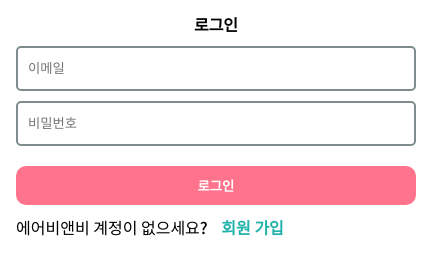
Test case: LoginPage › Interactions › 로그인 실패시, 에러메세지 표시
The width and height of the screenshot is (433, 277).
Type "test@google.com" into the field with placeholder "이메일" at (216,68), box [16,46,416,91]
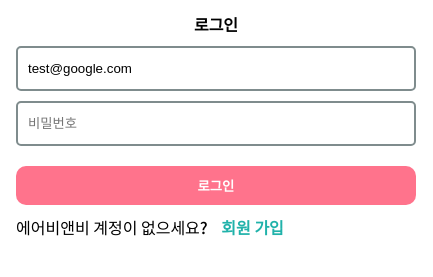
Type "P4ssword" into the password field with placeholder "비밀번호" at (216,124), box [16,101,416,146]
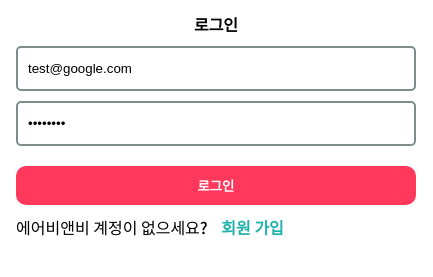
Click the button "로그인" at (216,186), box [16,166,416,205]
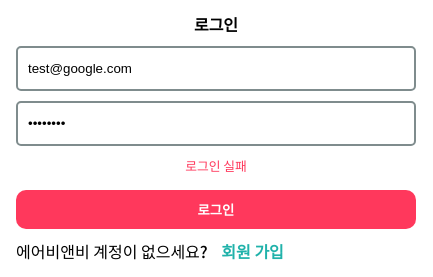
expect the text "로그인 실패" is shown: met, box [185,156,247,175]
